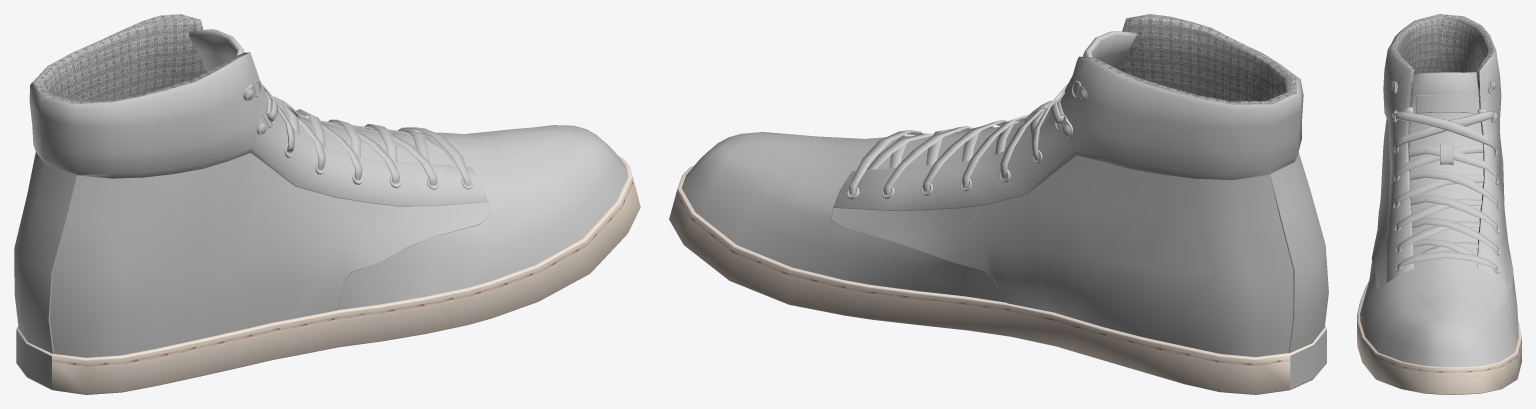
Rendered from conquestboot.FBX.
The picture shows the model from 3 angles, left to right: view 1: azimuth 30°, elevation 25°; view 2: azimuth 150°, elevation 25°; view 3: azimuth 270°, elevation 25°; orthographic projection. The views are drawn at different scales.
Visible parts, largest first — view 1: boot_upper, boot_sole, boot_interior, boot_laces, boot_rivets_tags_orig; view 2: boot_upper, boot_sole, boot_interior, boot_laces, boot_rivets_tags_orig; view 3: boot_upper, boot_laces, boot_interior, boot_sole, conquestboot_logo, boot_rivets_tags_orig.
Part boxes in pixels (x1=…): boot_upper: x1=14, y1=29, x2=628, y2=357; boot_sole: x1=16, y1=155, x2=640, y2=394; boot_interior: x1=32, y1=14, x2=390, y2=130; boot_laces: x1=262, y1=85, x2=471, y2=186; boot_rivets_tags_orig: x1=16, y1=80, x2=473, y2=388; boot_upper: x1=681, y1=31, x2=1328, y2=356; boot_sole: x1=669, y1=165, x2=1326, y2=394; boot_interior: x1=954, y1=14, x2=1296, y2=133; boot_laces: x1=849, y1=84, x2=1067, y2=194; boot_rivets_tags_orig: x1=847, y1=80, x2=1326, y2=388; boot_upper: x1=1360, y1=20, x2=1518, y2=366; boot_laces: x1=1394, y1=107, x2=1498, y2=271; boot_interior: x1=1391, y1=14, x2=1494, y2=268; boot_sole: x1=1357, y1=281, x2=1521, y2=394; conquestboot_logo: x1=1416, y1=95, x2=1475, y2=113; boot_rivets_tags_orig: x1=1390, y1=80, x2=1500, y2=273.
Size of the model in its own units: 0.2514 by 0.1148 by 0.0816.
